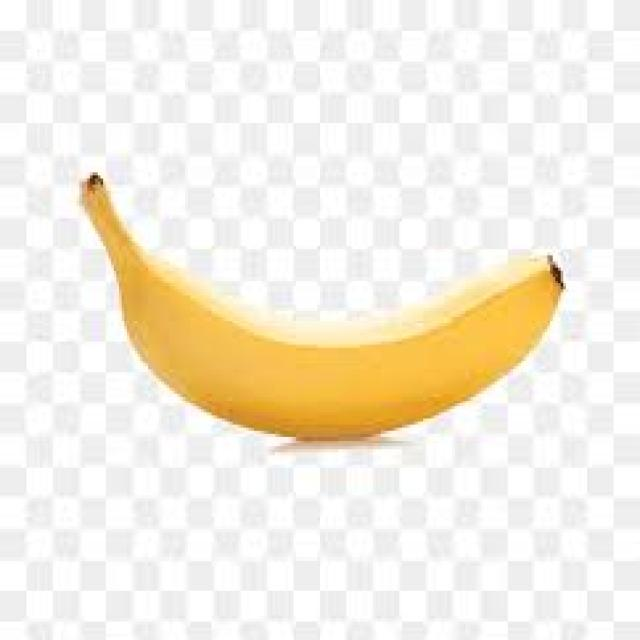banana: (77, 169, 566, 440)
